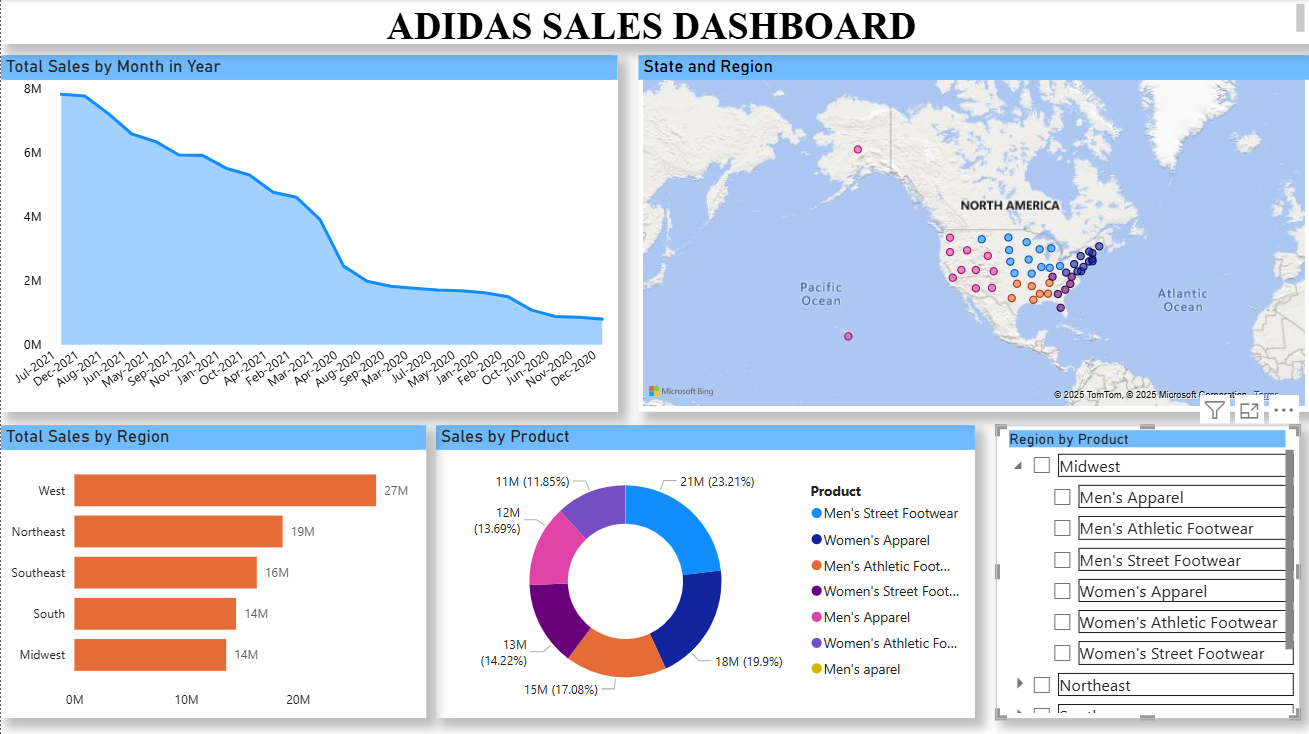

The dashboard page shown, as its layout file describes it:
{"tool":"powerbi","page":{"name":"Page 1","canvas":[1280,720],"ordinal":0},"visuals":[{"type":"donutChart","title":"Sales by Product","fields":{"Y":["Sum(Adidas Sales Data (2020-2021).Total Sales)"],"Category":["Adidas Sales Data (2020-2021).Product"]},"box":[425.8,417.4,527,286.7],"z":0},{"type":"map","fields":{"Category":["Adidas Sales Data (2020-2021).State"],"Series":["Adidas Sales Data (2020-2021).Region"]},"box":[623.6,55,656.7,348.5],"z":1000},{"type":"lineChart","title":"Total Sales by Month in Year","fields":{"Category":["Adidas Sales Data (2020-2021).MonthYear"],"Y":["Sum(Adidas Sales Data (2020-2021).Total Sales)"]},"box":[0,55,602.9,348.5],"z":2000},{"type":"slicer","fields":{"Values":["Adidas Sales Data (2020-2021).Region","Adidas Sales Data (2020-2021).Product"]},"box":[973.9,417.4,296.5,286.7],"z":3000},{"type":"barChart","title":"Total Sales by Region","fields":{"Y":["Sum(Adidas Sales Data (2020-2021).Total Sales)"],"Category":["Adidas Sales Data (2020-2021).Region"]},"box":[0,417.4,416,286.7],"z":4000},{"type":"textbox","box":[0,0,1280.3,44],"z":4001}]}

Visuals, with their boxes in screenshot pixels (x1, y1, x2, y2), scaled from the page's 1280x720 canvas onto the 1309x734 screenshot:
"Sales by Product" donutChart: BBox(435, 426, 974, 718)
map - Adidas Sales Data (2020-2021).State x Adidas Sales Data (2020-2021).Region: BBox(638, 56, 1308, 411)
"Total Sales by Month in Year" lineChart: BBox(0, 56, 617, 411)
slicer - Adidas Sales Data (2020-2021).Region x Adidas Sales Data (2020-2021).Product: BBox(996, 426, 1299, 718)
"Total Sales by Region" barChart: BBox(0, 426, 425, 718)
textbox: BBox(0, 0, 1308, 45)
